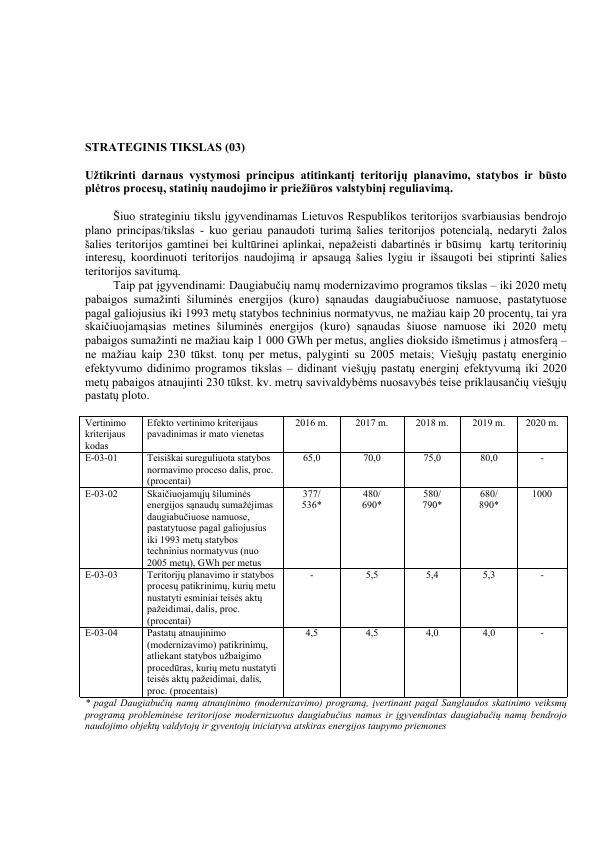table: (76, 414, 571, 698)
text: (82, 207, 568, 403), (81, 700, 568, 733), (83, 166, 568, 198), (83, 138, 247, 154)
